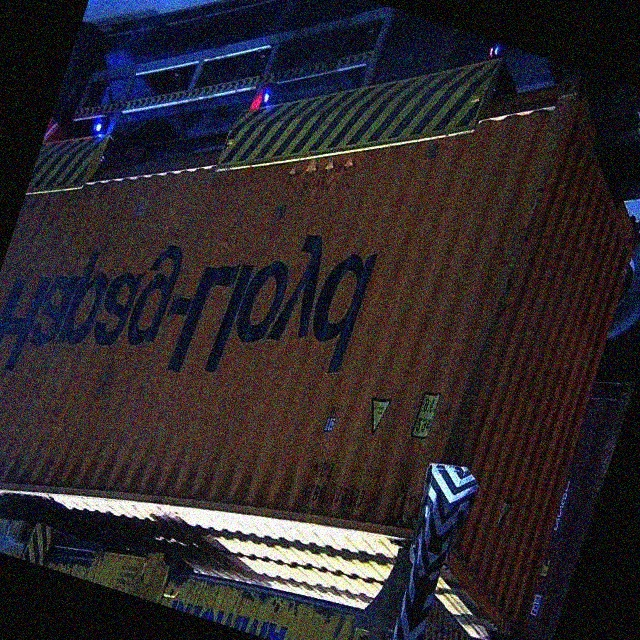Dent: (276, 131, 365, 221)
